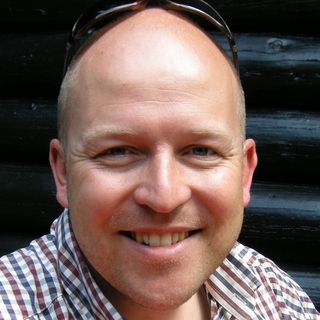eye: (91, 141, 146, 164), (176, 141, 224, 165)
